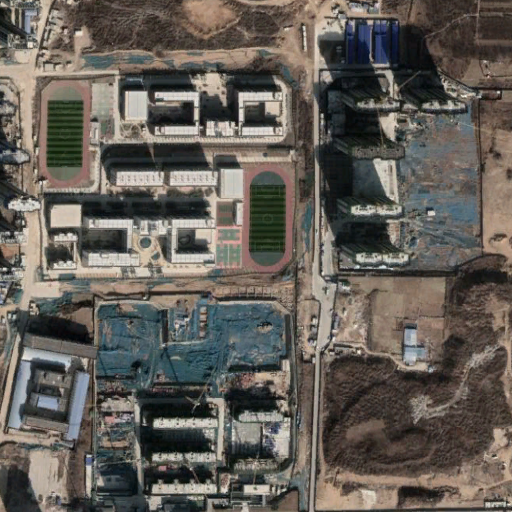cw: (96, 293, 290, 404), (401, 110, 482, 269)
